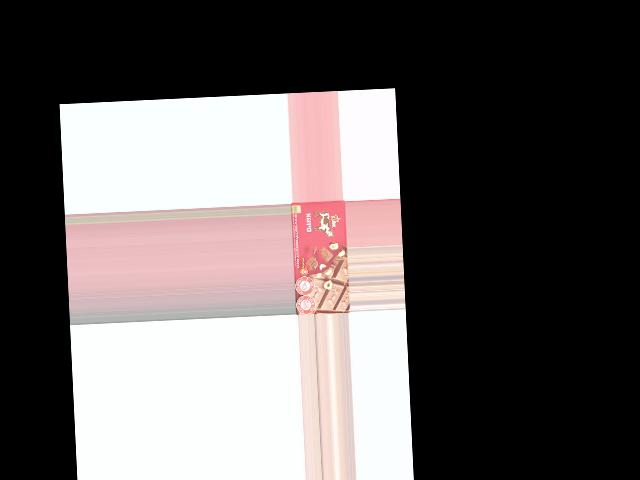chocolate: (292, 199, 349, 314)
